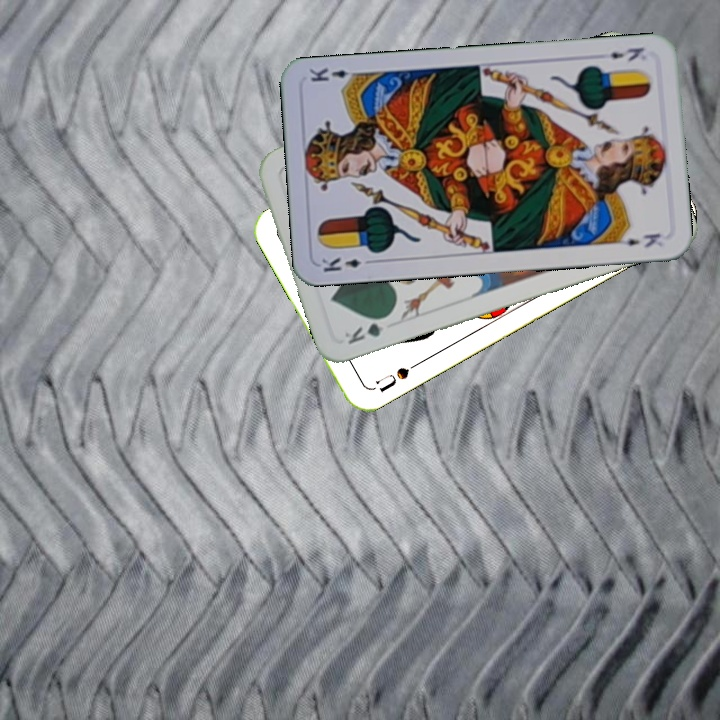EK: (317, 254, 377, 275), (606, 43, 647, 64)
GK: (340, 311, 394, 347)
SU: (368, 358, 422, 395)
